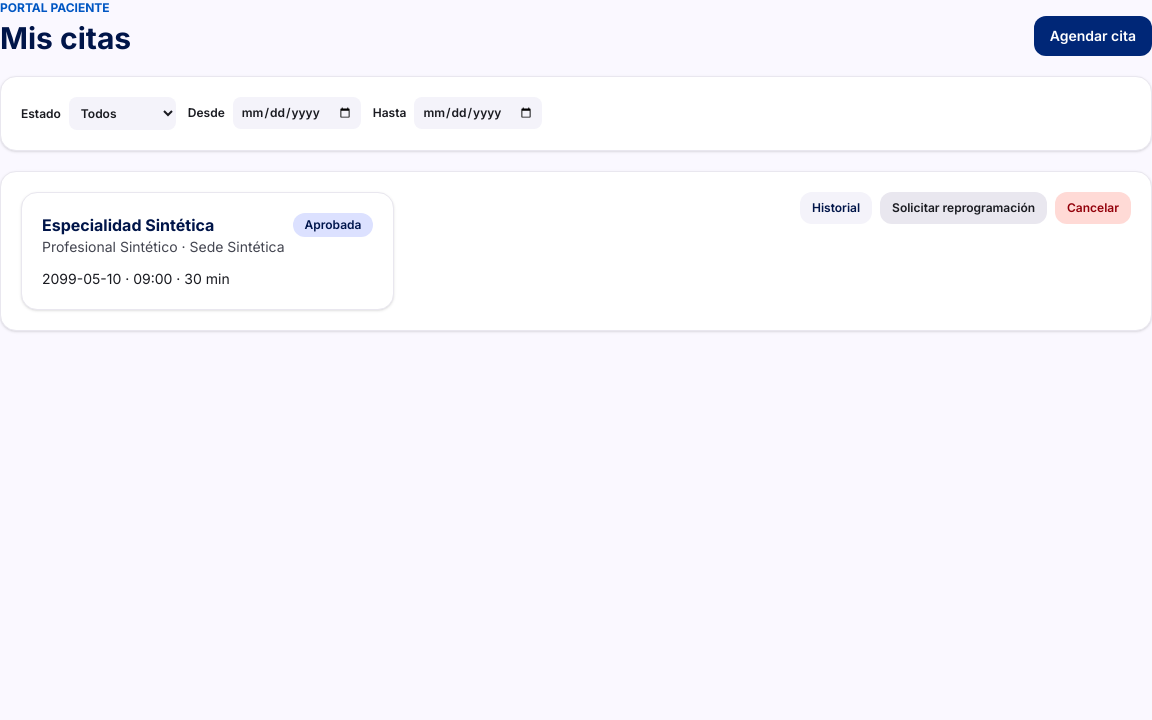
MyAppointmentsScreen › displays the problem detail when the reschedule is rejected with 409
Step 1. Click the button "Solicitar reprogramación" → (964, 208), box [880, 192, 1047, 224]
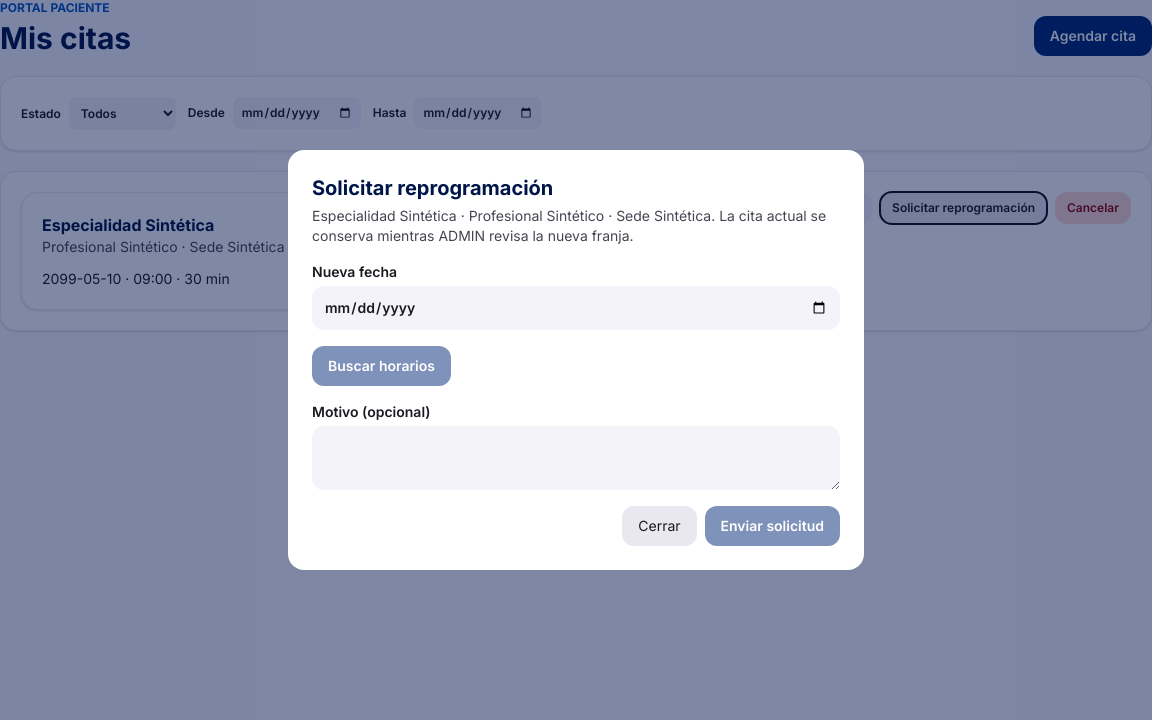
Step 2. Type "2099-06-01" into the date field labelled "Nueva fecha" → (576, 308), box [312, 286, 840, 330]
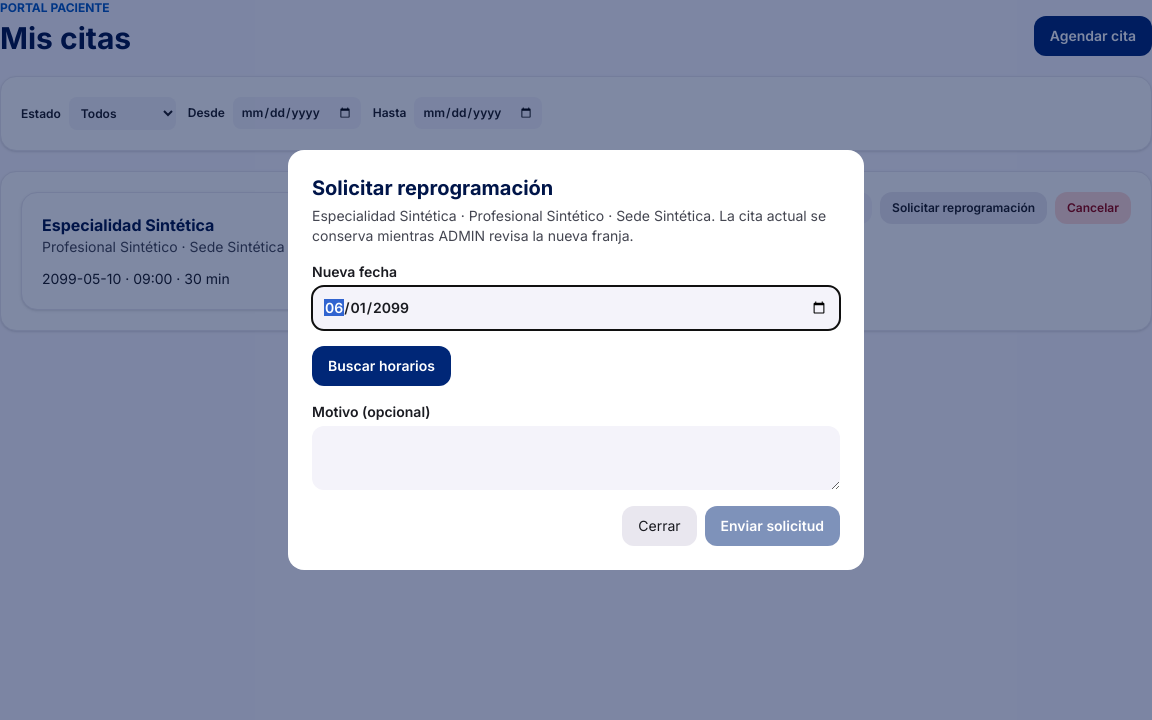
Step 3. Click the button "Buscar horarios" → (382, 366), box [312, 346, 451, 386]
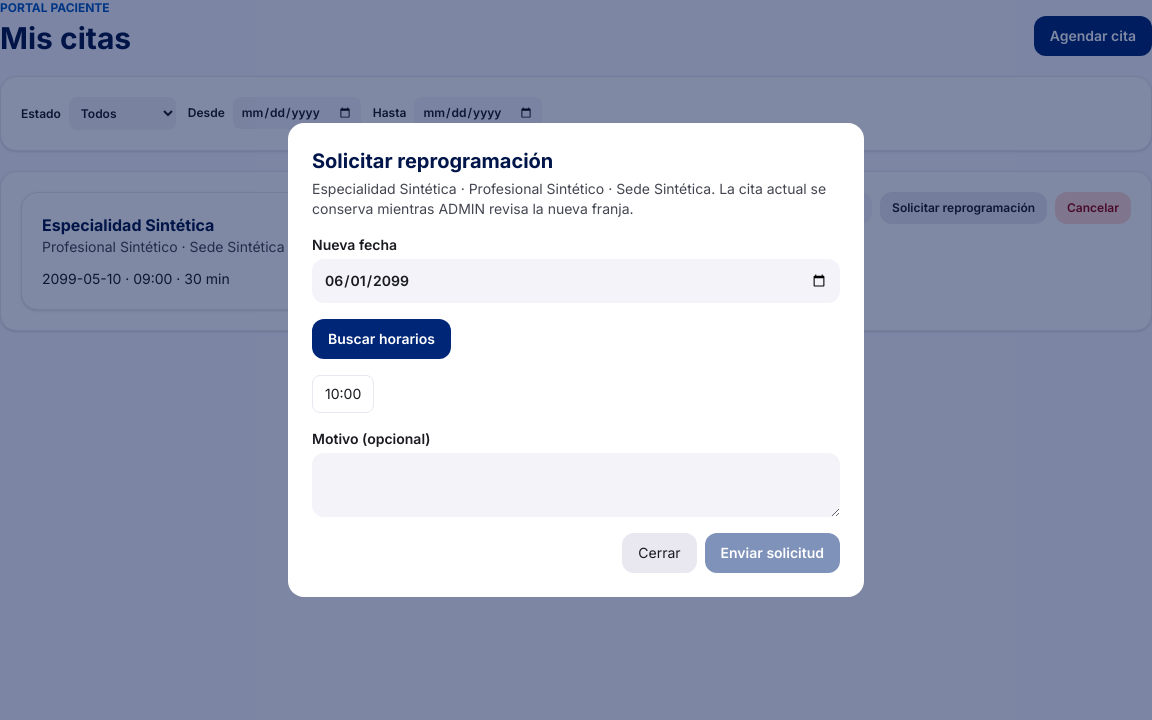
Step 4. Click the button "10:00" → (343, 394), box [312, 375, 374, 413]
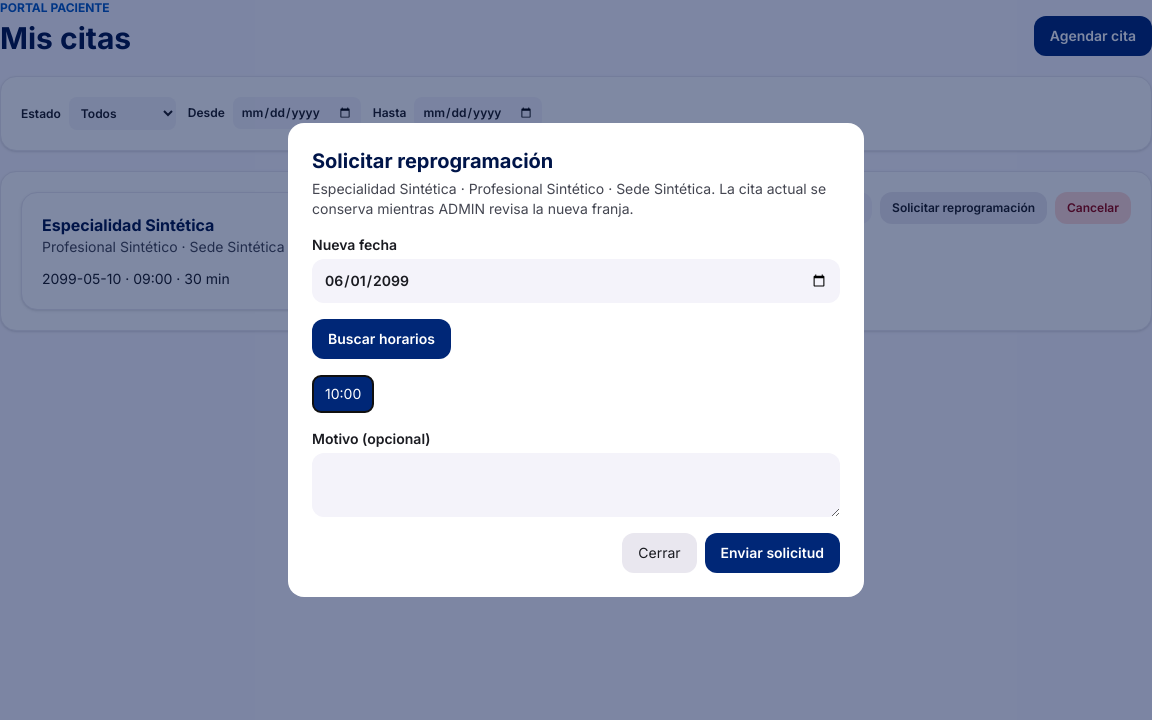
Step 5. Click the button "Enviar solicitud" → (772, 553), box [705, 533, 840, 573]
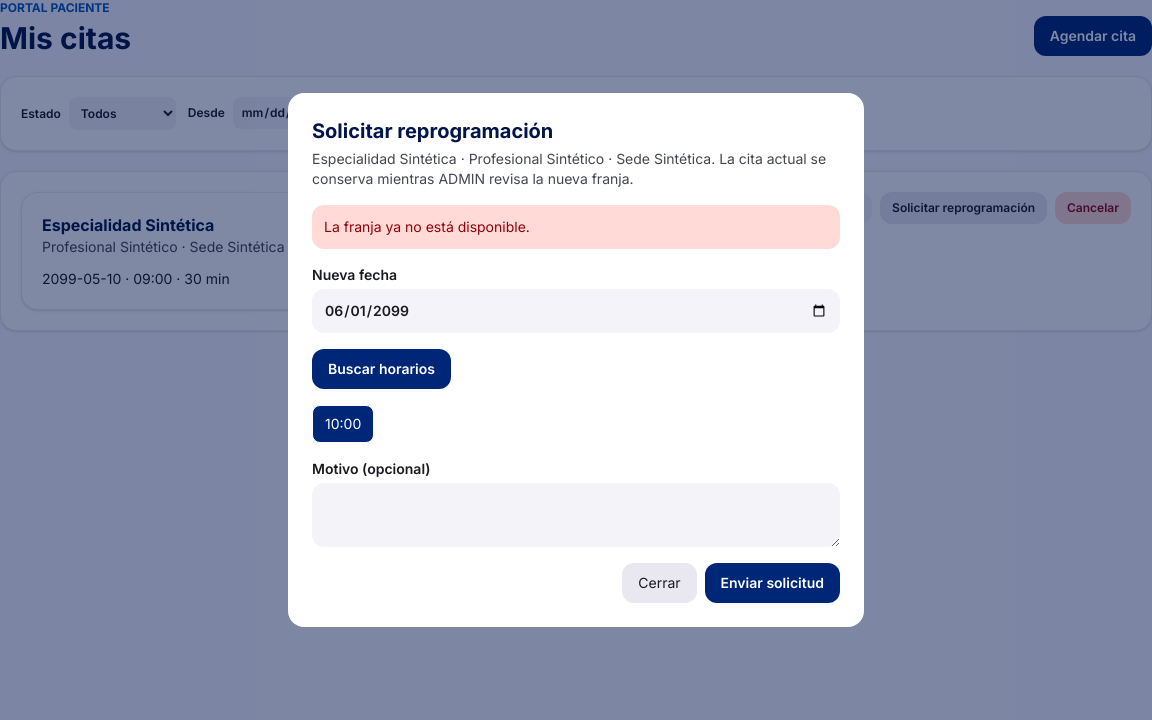
Expected: the message reads "La franja ya no está disponible.", [324, 218, 530, 235]
